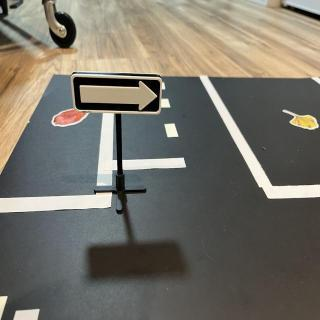sign_oneway_right: (71, 73, 163, 115)
